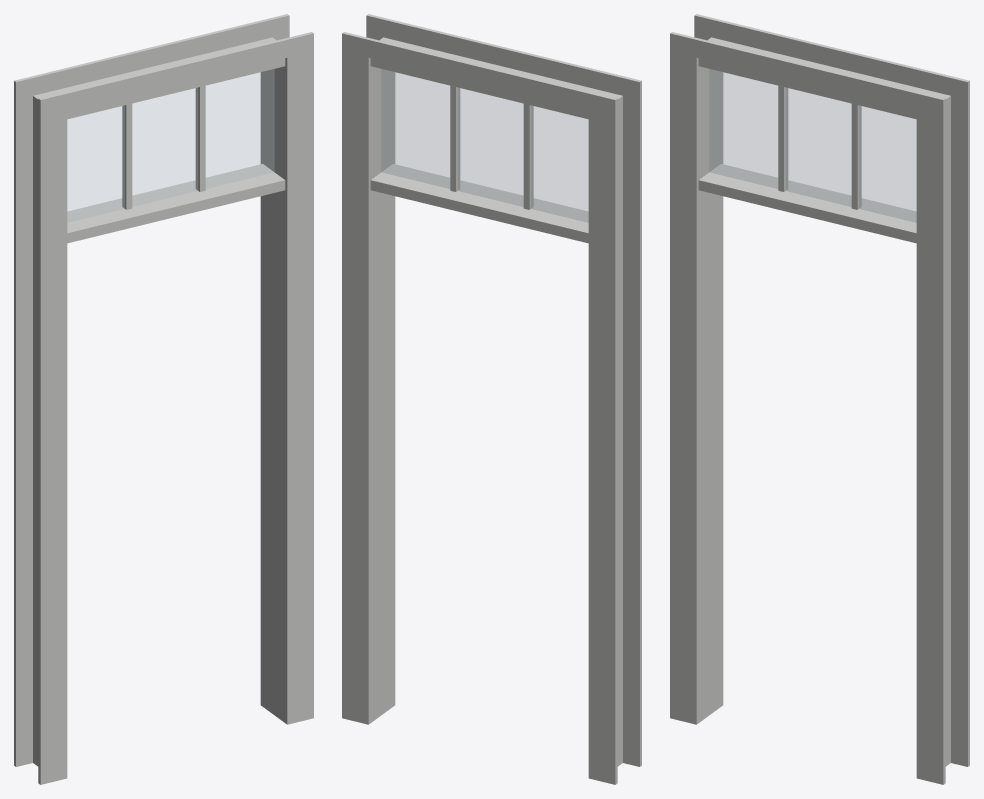
Rendered from mlo_door_frame_transom_white.glb.
The picture shows the model from 3 angles, left to right: view 1: azimuth 30°, elevation 25°; view 2: azimuth 150°, elevation 25°; view 3: azimuth 330°, elevation 25°; orthographic projection.
Parts seen in each view (by area): view 1: Door_Frame_Transom_White; view 2: Door_Frame_Transom_White; view 3: Door_Frame_Transom_White.
Part boxes in pixels (x1,y1,x2,y2): Door_Frame_Transom_White: (14, 14, 313, 784); Door_Frame_Transom_White: (342, 14, 641, 784); Door_Frame_Transom_White: (670, 14, 969, 784).
Size of the model in its own units: 1.13 by 2.7 by 0.19.
